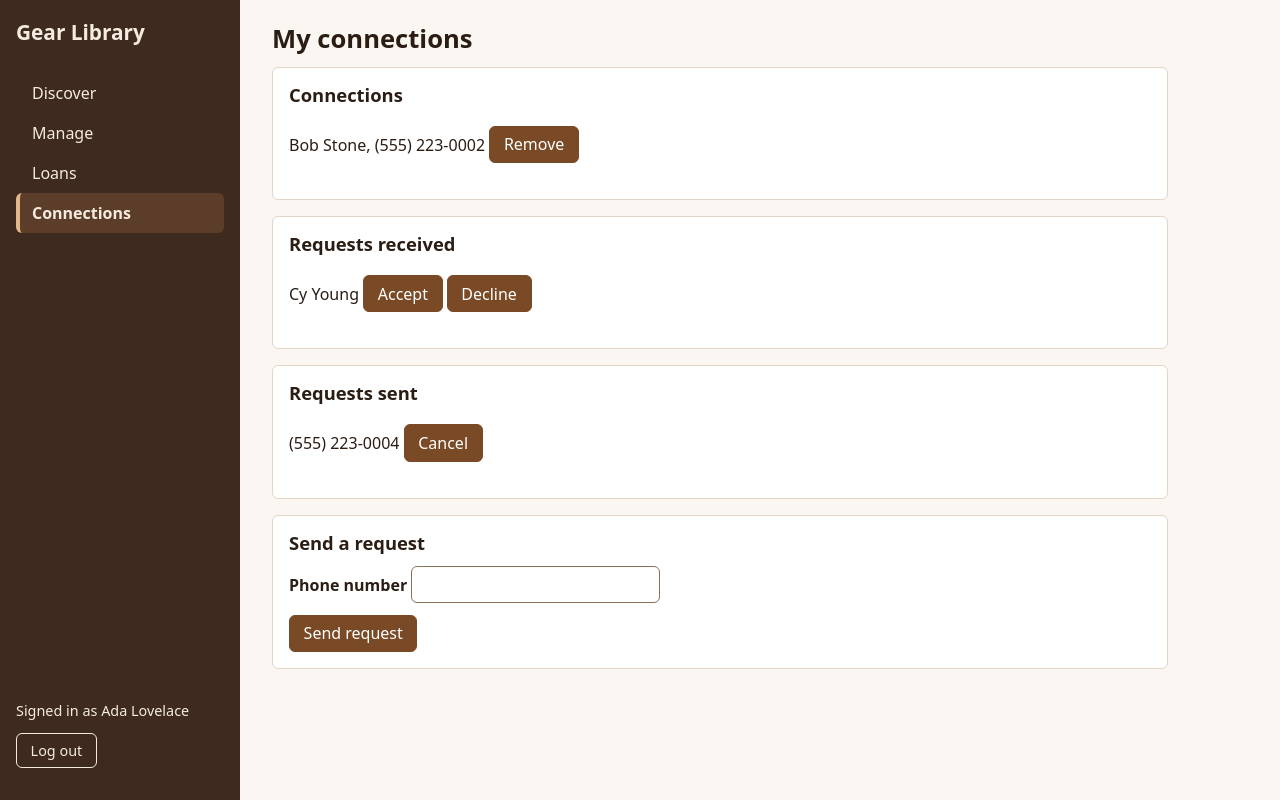
Scenario: answering requests › declining removes the request
expect the heading "My connections" is shown: met, box x1=272 y1=21 x2=473 y2=56
What coordinates should you click on to do the following:
click the button with aria-label "Decline request from Cy Young"
I would click on:
 (489, 294)
Its box is x1=447 y1=275 x2=532 y2=312.
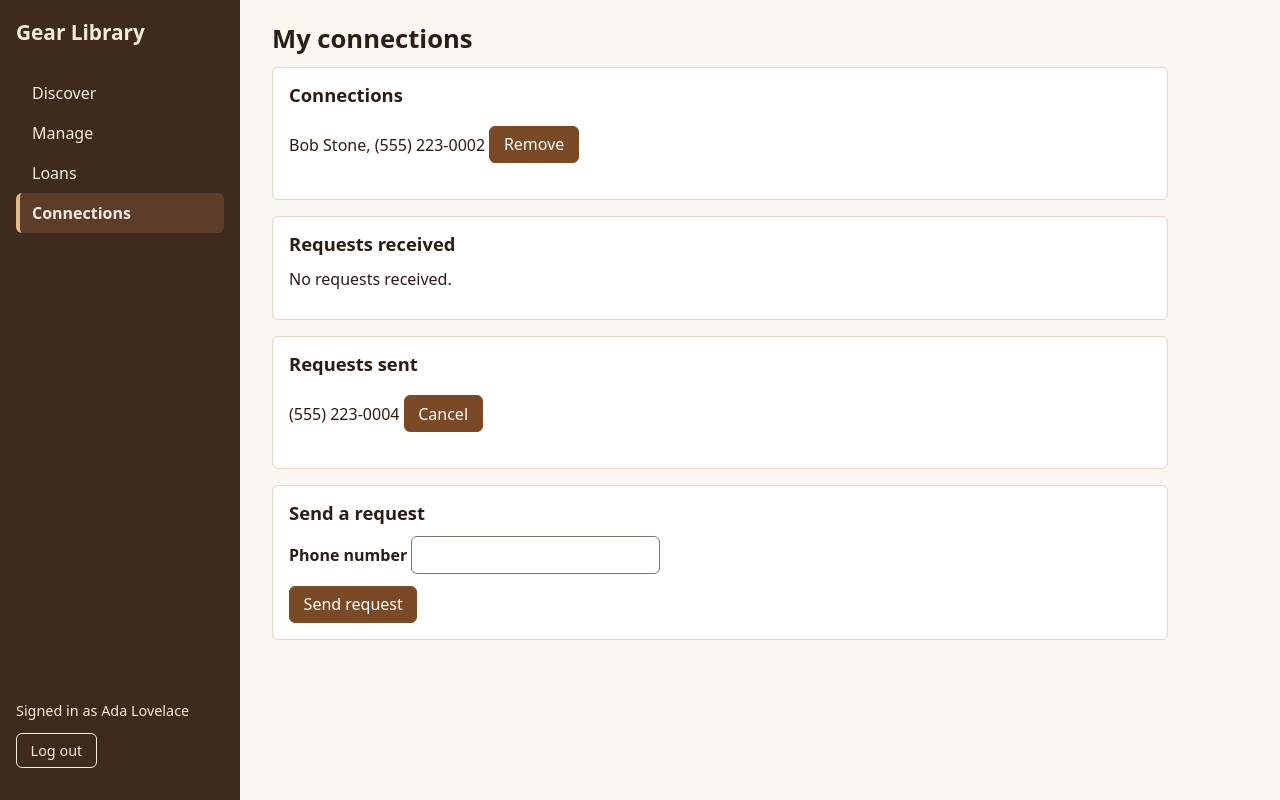
expect the text "No requests received." is shown: met, box x1=289 y1=268 x2=452 y2=290
